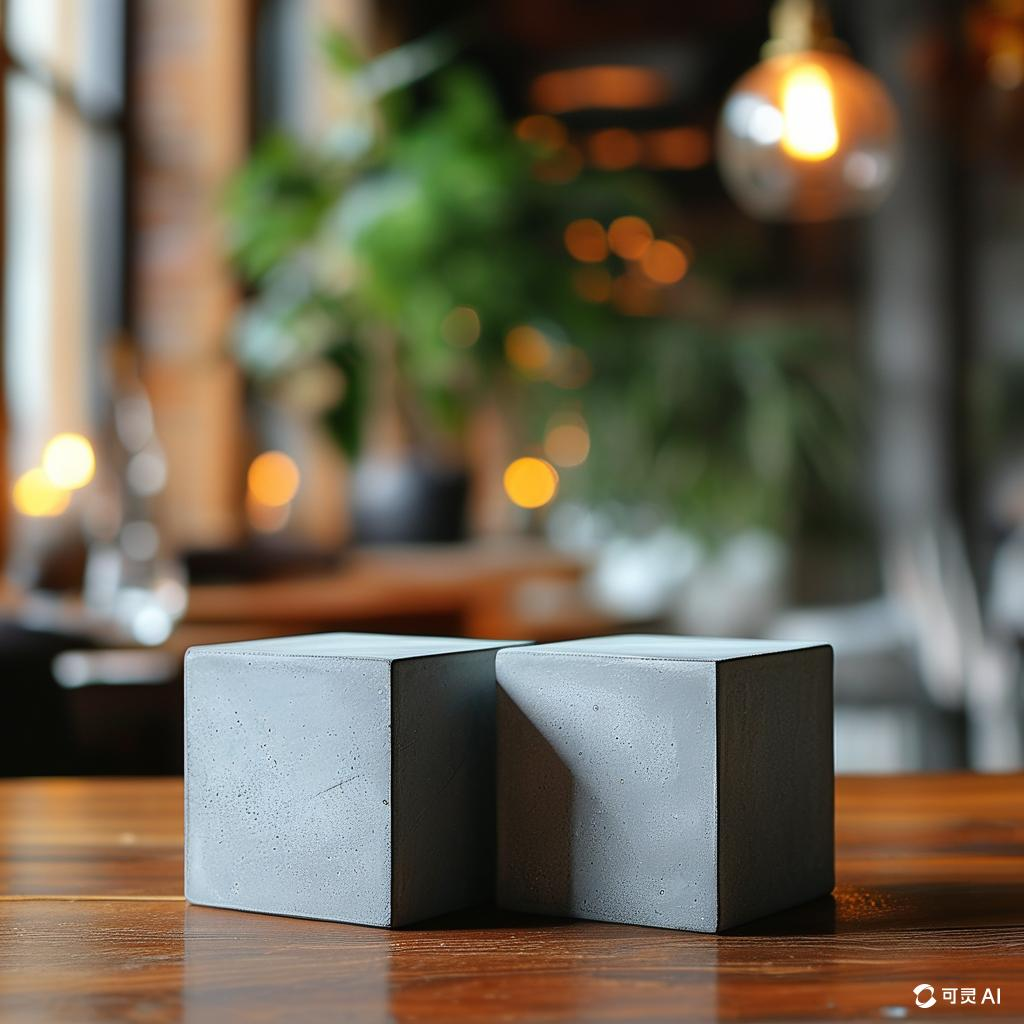cube: (181, 629, 534, 929), (493, 632, 835, 934)
